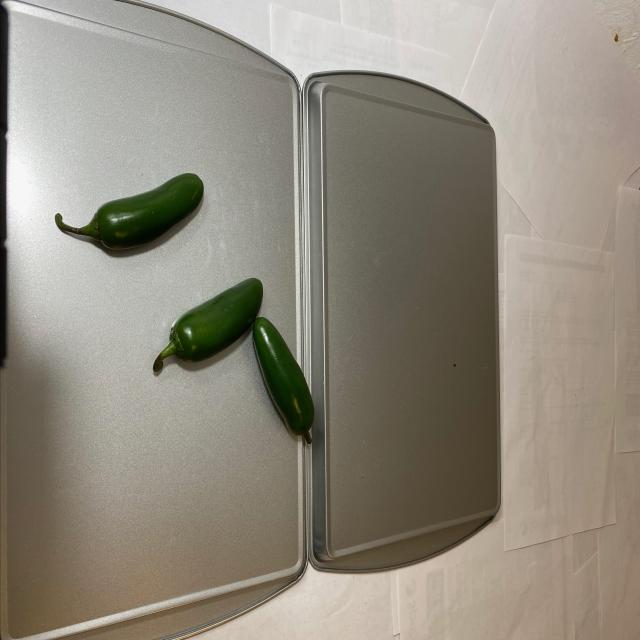chilli: (47, 166, 318, 452)
